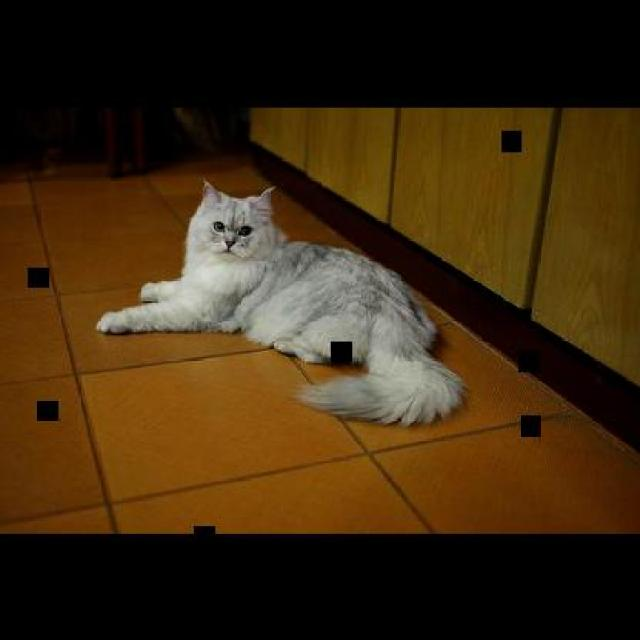unauthorized: (94, 177, 468, 428)
